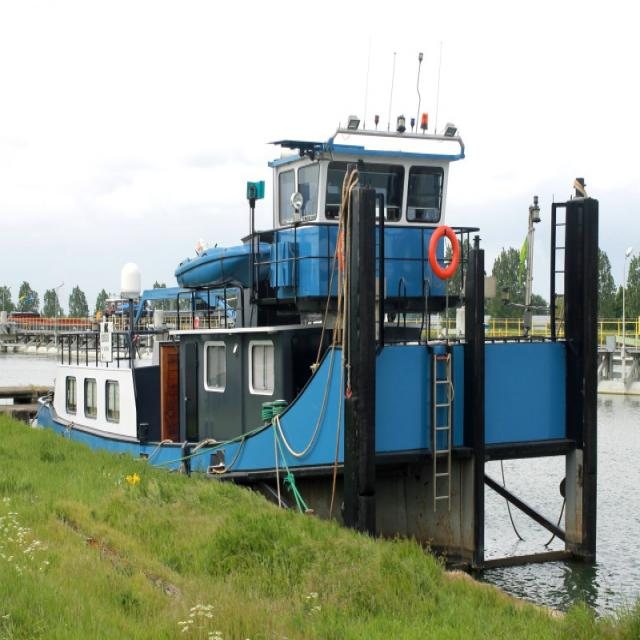tugboat: (36, 109, 610, 589)
